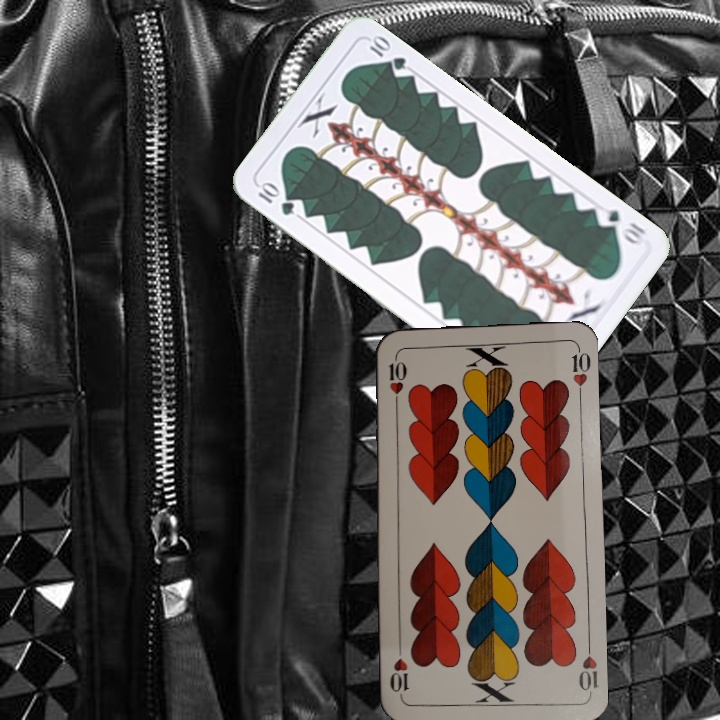G10: (592, 202, 649, 247), (254, 178, 297, 219)
H10: (574, 636, 599, 695), (385, 351, 406, 410)
